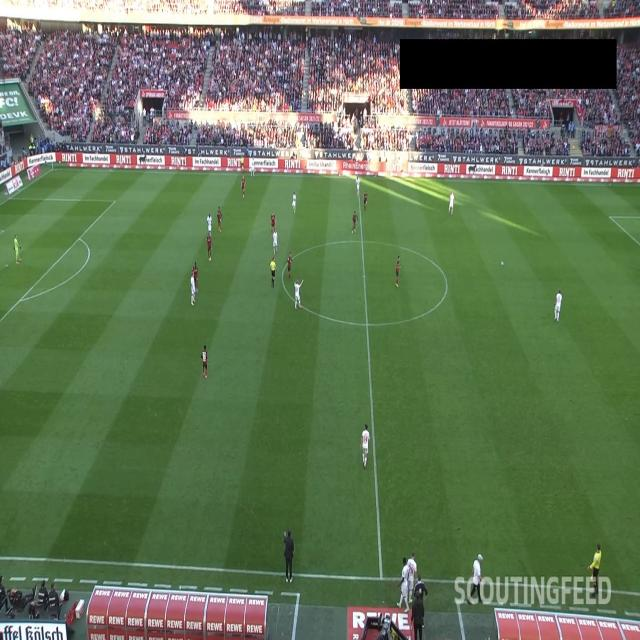ball: (500, 260, 504, 266)
